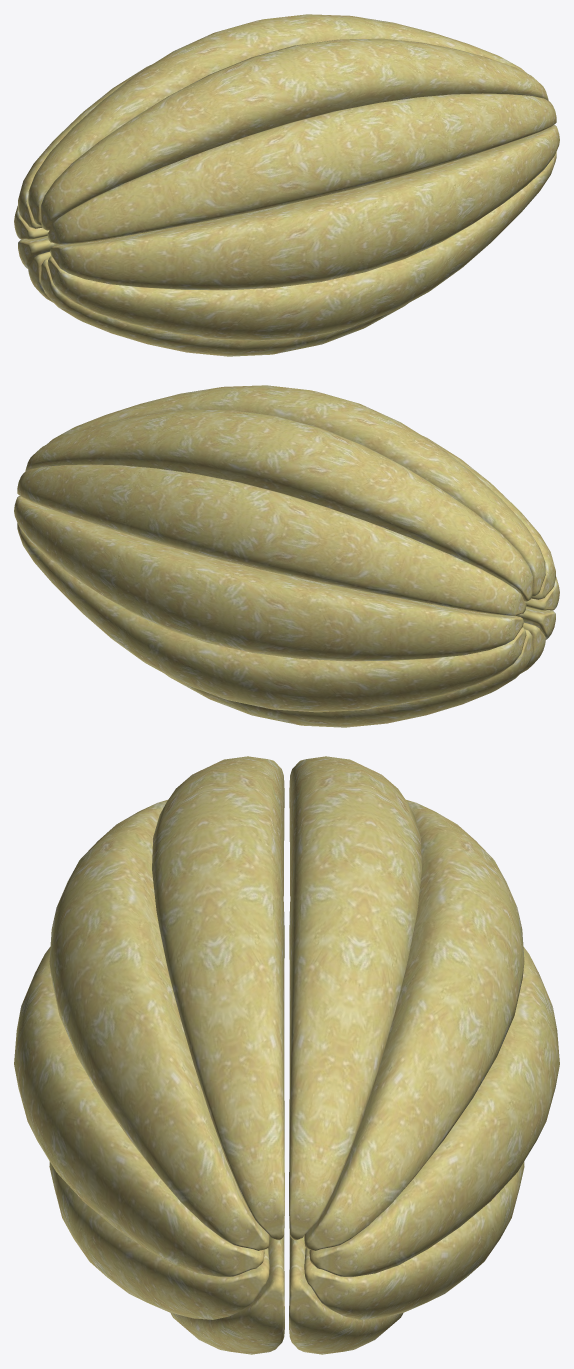
File: LimeFlesh.obj
The picture shows the model from 3 angles, top to bottom: view 1: azimuth 30°, elevation 25°; view 2: azimuth 150°, elevation 25°; view 3: azimuth 270°, elevation 25°; orthographic projection. The views are drawn at different scales.
Visible parts, largest first — view 1: LimeFlesh; view 2: LimeFlesh; view 3: LimeFlesh.
Part boxes in pixels (x1=…): LimeFlesh: x1=14, y1=14, x2=559, y2=356; LimeFlesh: x1=14, y1=385, x2=559, y2=727; LimeFlesh: x1=14, y1=756, x2=559, y2=1354.
Bounding box in the file's own units: 0.0775 × 0.0435 × 0.0451.
1 material, 1 textured.
